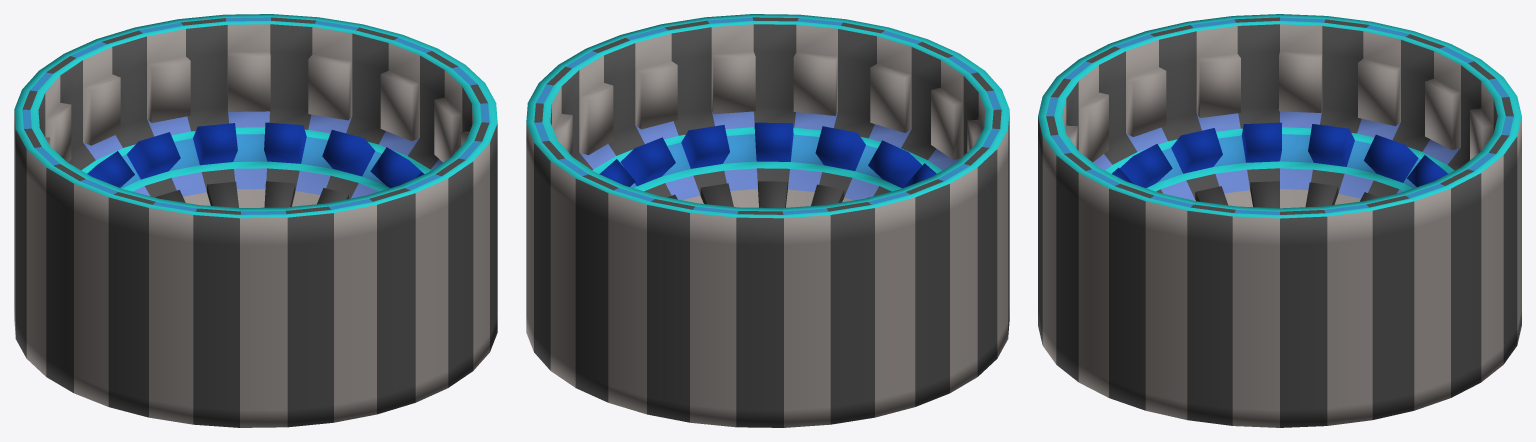
Rendered from Warpzone-bottom.fbx.
3 renders of one model, left to right at view 1: azimuth 30°, elevation 25°; view 2: azimuth 150°, elevation 25°; view 3: azimuth 270°, elevation 25°, orthographic.
Visible parts, largest first — view 1: Cube; view 2: Cube; view 3: Cube.
Part boxes in pixels (x1,y1,x2,y2): Cube: [14, 14, 497, 427]; Cube: [526, 14, 1009, 427]; Cube: [1038, 14, 1521, 427].
Bounding box in the file's own units: 1600 × 764 × 1600.
